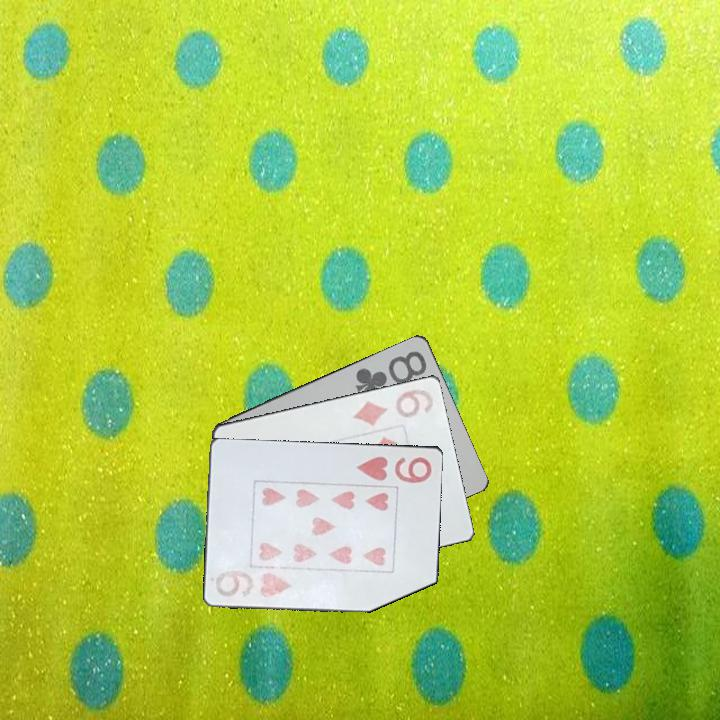6d: (349, 385, 438, 428)
8c: (352, 345, 430, 402)
9h: (209, 565, 295, 601), (352, 452, 435, 486)
